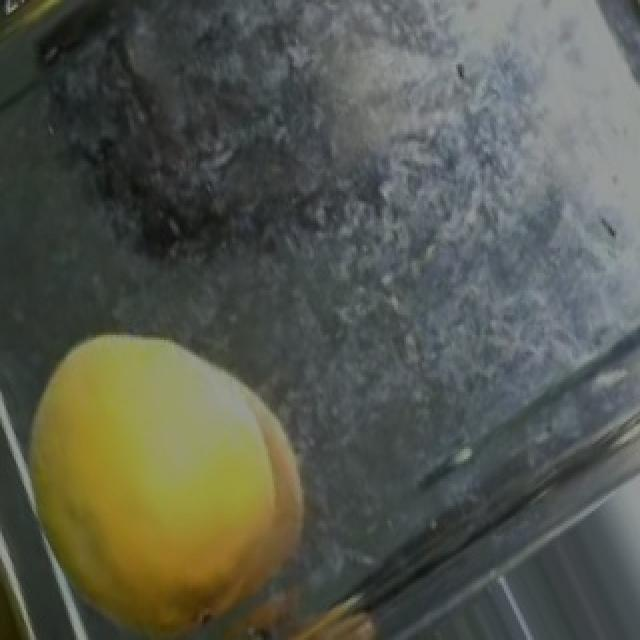fruit: (10, 285, 384, 640)
